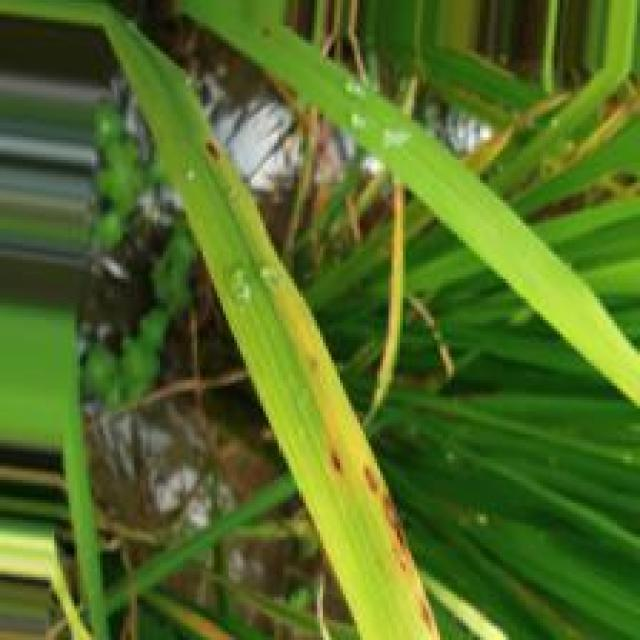Narrow_Brown_Leaf_Spot: (187, 135, 438, 640)
